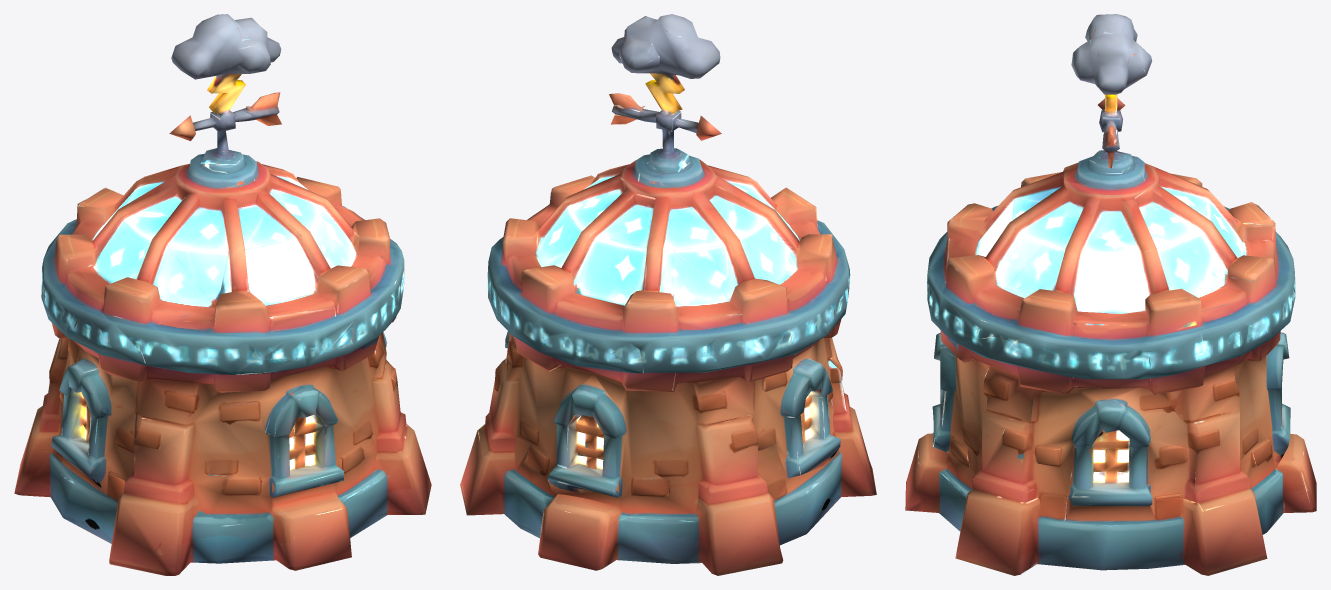
File: Meshy_AI_게임에서_배치할_0608200129_texture.fbx
3 renders of one model, left to right at view 1: azimuth 30°, elevation 25°; view 2: azimuth 150°, elevation 25°; view 3: azimuth 270°, elevation 25°, orthographic.
Parts seen in each view (by area): view 1: Mesh1.0; view 2: Mesh1.0; view 3: Mesh1.0.
Part boxes in pixels (x1=…): Mesh1.0: x1=14, y1=14, x2=431, y2=575; Mesh1.0: x1=460, y1=14, x2=876, y2=575; Mesh1.0: x1=905, y1=14, x2=1316, y2=575.
Bounding box in the file's own units: 135 × 191 × 147.
1 material, 1 textured.
